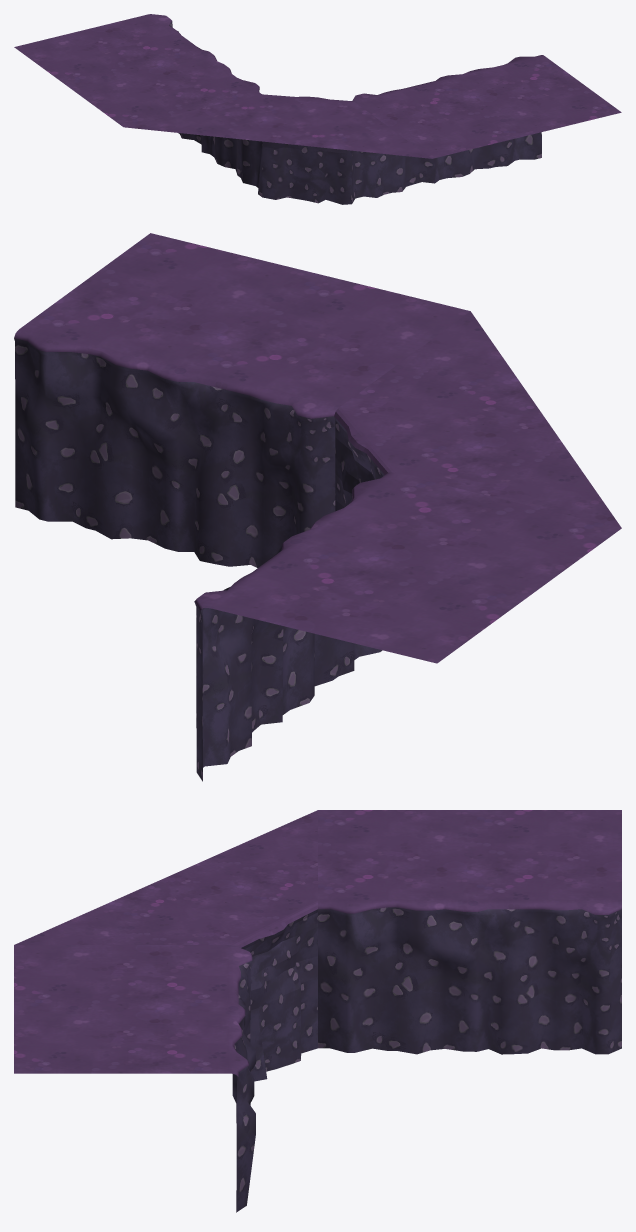
Rendered from angle_interne.fbx.
3 renders of one model, top to bottom at view 1: azimuth 30°, elevation 25°; view 2: azimuth 150°, elevation 25°; view 3: azimuth 270°, elevation 25°, orthographic. The views are drawn at different scales.
Parts seen in each view (by area): view 1: trottoir26; view 2: trottoir26; view 3: trottoir26.
Part boxes in pixels (x1,y1,x2,y2): trottoir26: [14, 14, 621, 204]; trottoir26: [14, 233, 621, 781]; trottoir26: [14, 810, 621, 1212].
Size of the model in its own units: 152 by 38.74 by 148.
